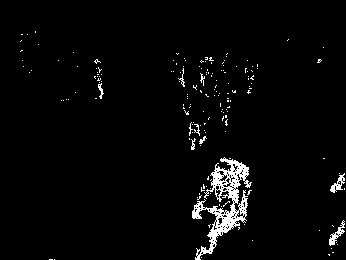person: (182, 83, 211, 150), (214, 69, 236, 127), (243, 57, 259, 97)
